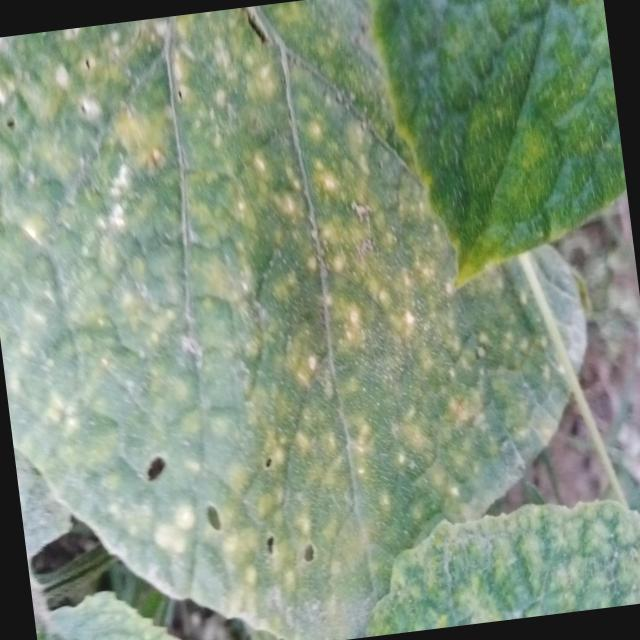cucumber_downy: (0, 0, 450, 640), (370, 218, 604, 521), (376, 494, 640, 634)
